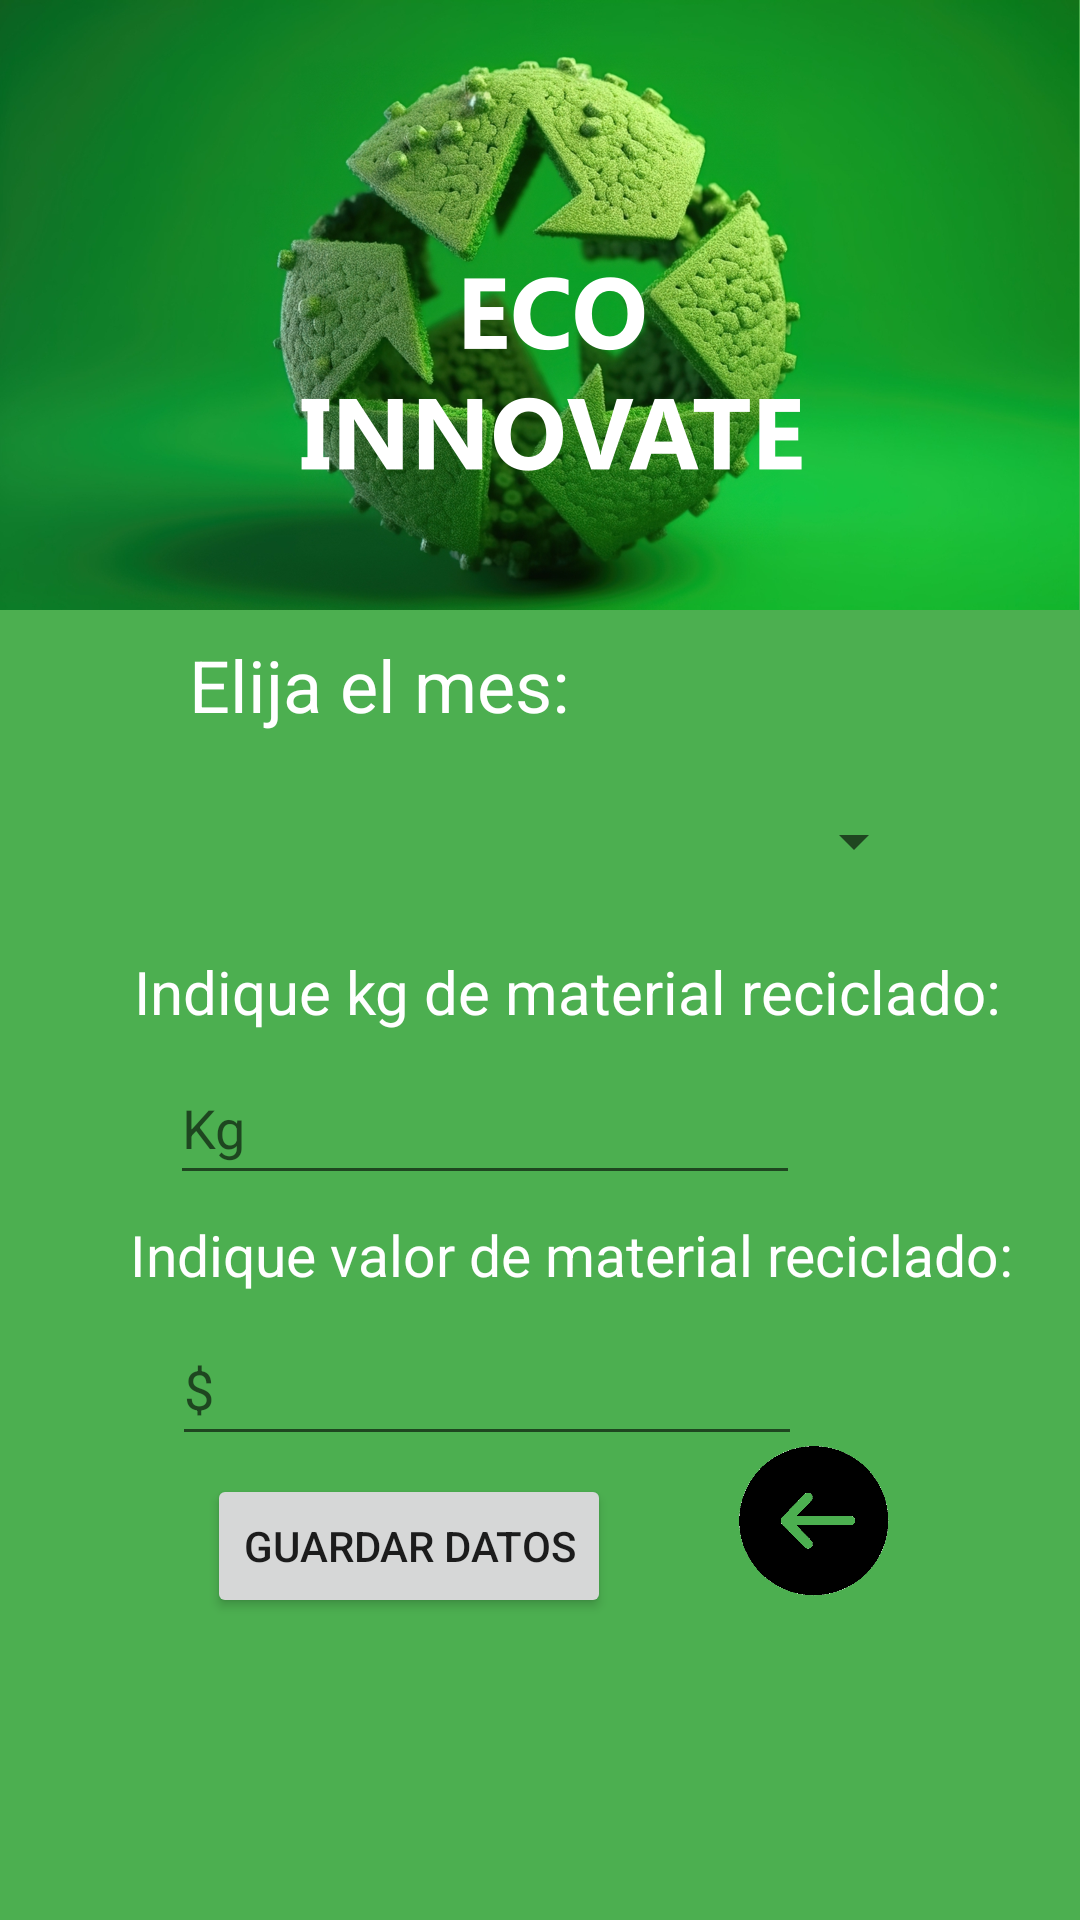

Icon click points for this 1080px×1920px phone screenshot, format (x,y):
flechanegro: (814,1520)
